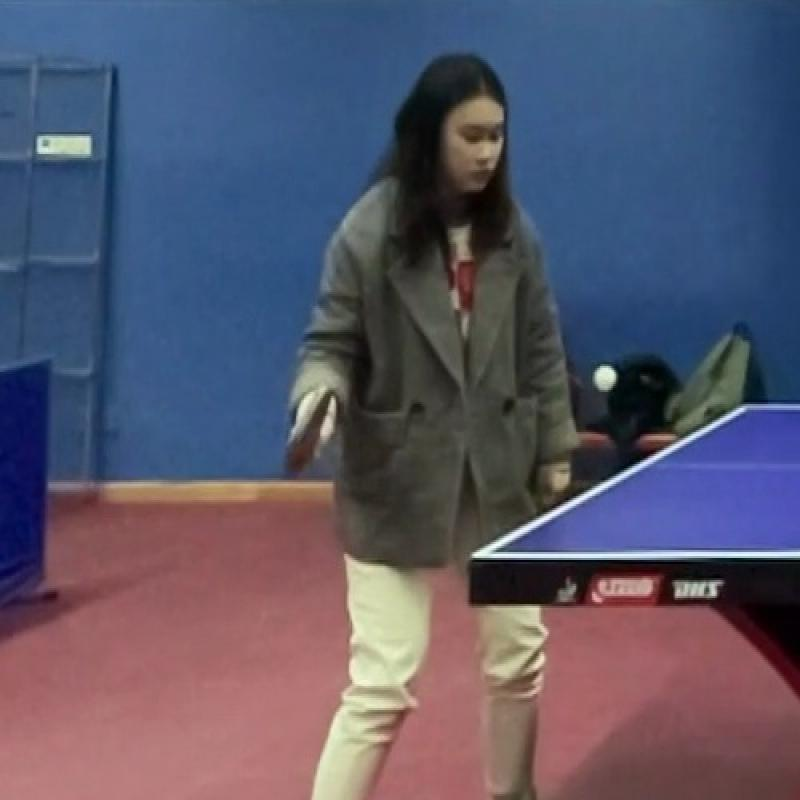bats: (273, 381, 354, 485)
